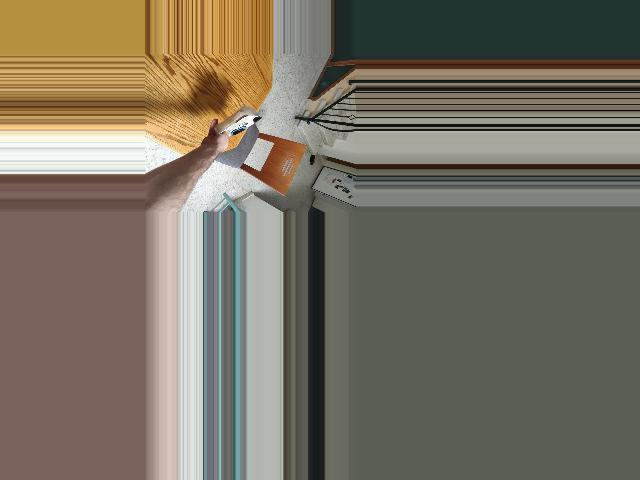cheese: (213, 105, 262, 139)
